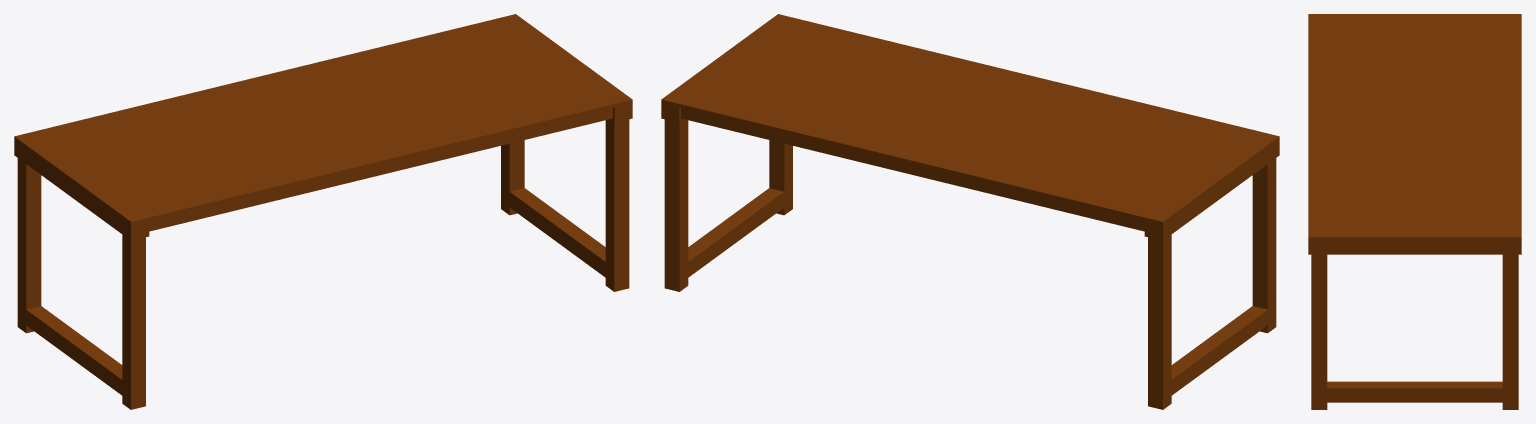
File: Tisch2.fbx
The picture shows the model from 3 angles, left to right: view 1: azimuth 30°, elevation 25°; view 2: azimuth 150°, elevation 25°; view 3: azimuth 270°, elevation 25°; orthographic projection. The views are drawn at different scales.
Parts seen in each view (by area): view 1: Tisch; view 2: Tisch; view 3: Tisch.
Boxes of the visible parts, x1,y1,x2,y2 form: Tisch: [14, 14, 632, 409]; Tisch: [661, 14, 1279, 409]; Tisch: [1308, 14, 1521, 409].
Bounding box in the file's own units: 1660 × 600 × 670.
